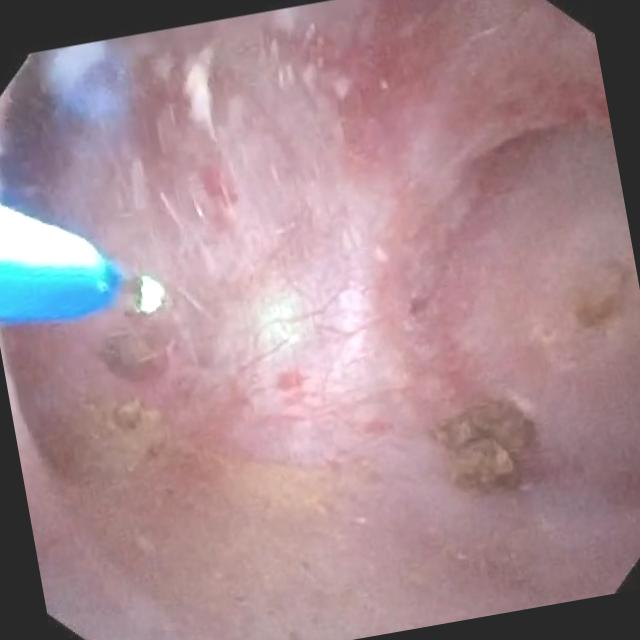laser-fibre: (117, 273, 165, 315), (284, 320, 284, 320)
laser_dot: (256, 292, 301, 341)
stone-new: (432, 399, 534, 490), (104, 331, 158, 377), (575, 295, 616, 325)
